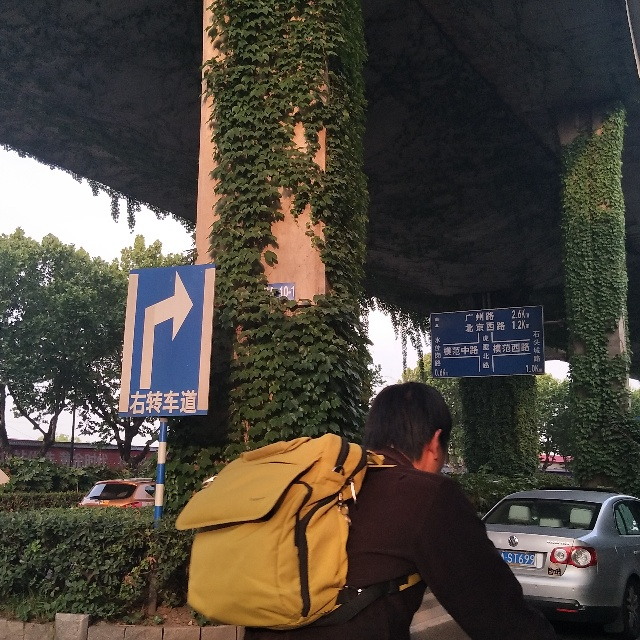right: (141, 269, 195, 393)
